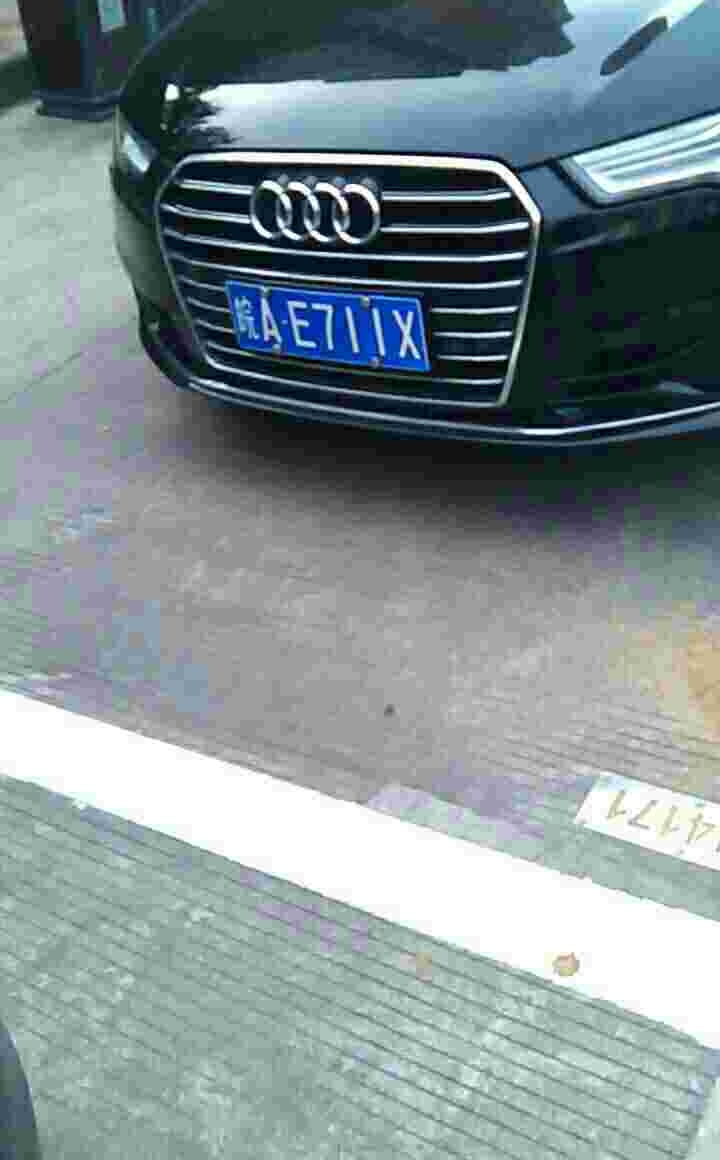plate: (219, 276, 435, 376)
